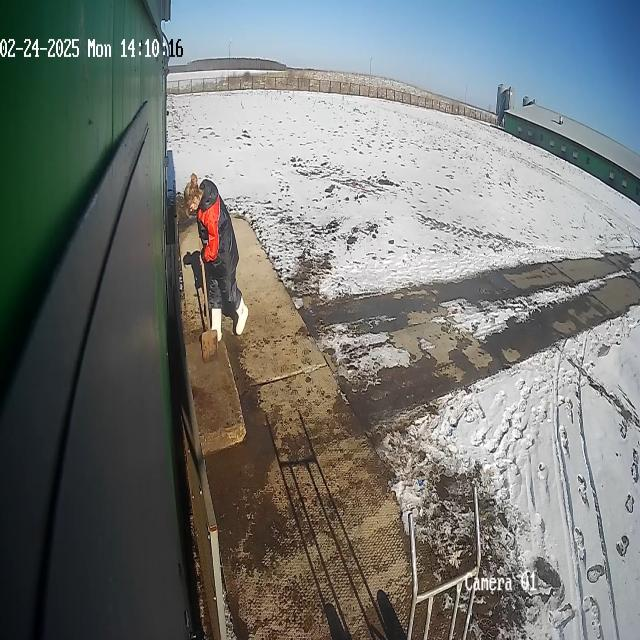Red uniform: (182, 172, 250, 345)
